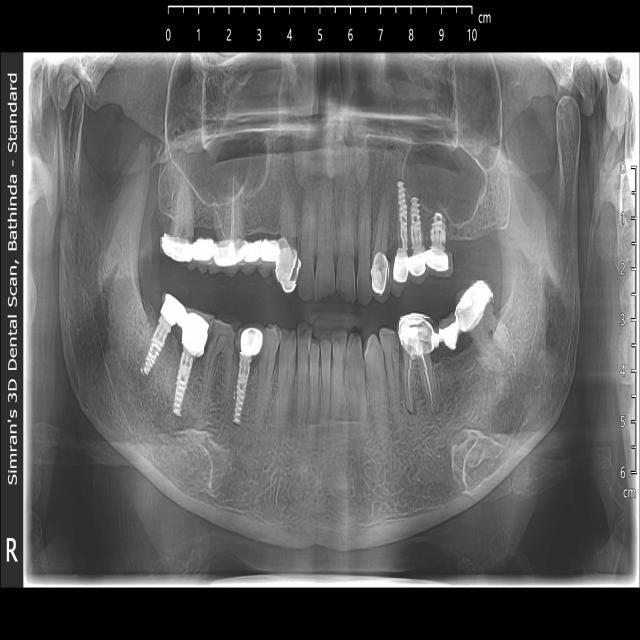implant: (140, 289, 181, 380), (176, 310, 206, 430), (235, 319, 257, 427), (390, 176, 411, 284), (429, 194, 453, 277), (408, 186, 427, 280)
kanal-tedavisi: (400, 353, 440, 409), (220, 171, 243, 237)
kaplama: (450, 272, 502, 338), (395, 311, 440, 358), (278, 238, 300, 292), (213, 238, 248, 269), (159, 236, 194, 266), (369, 247, 390, 295)
kopru: (415, 293, 491, 376), (180, 228, 229, 271), (233, 232, 291, 268)
